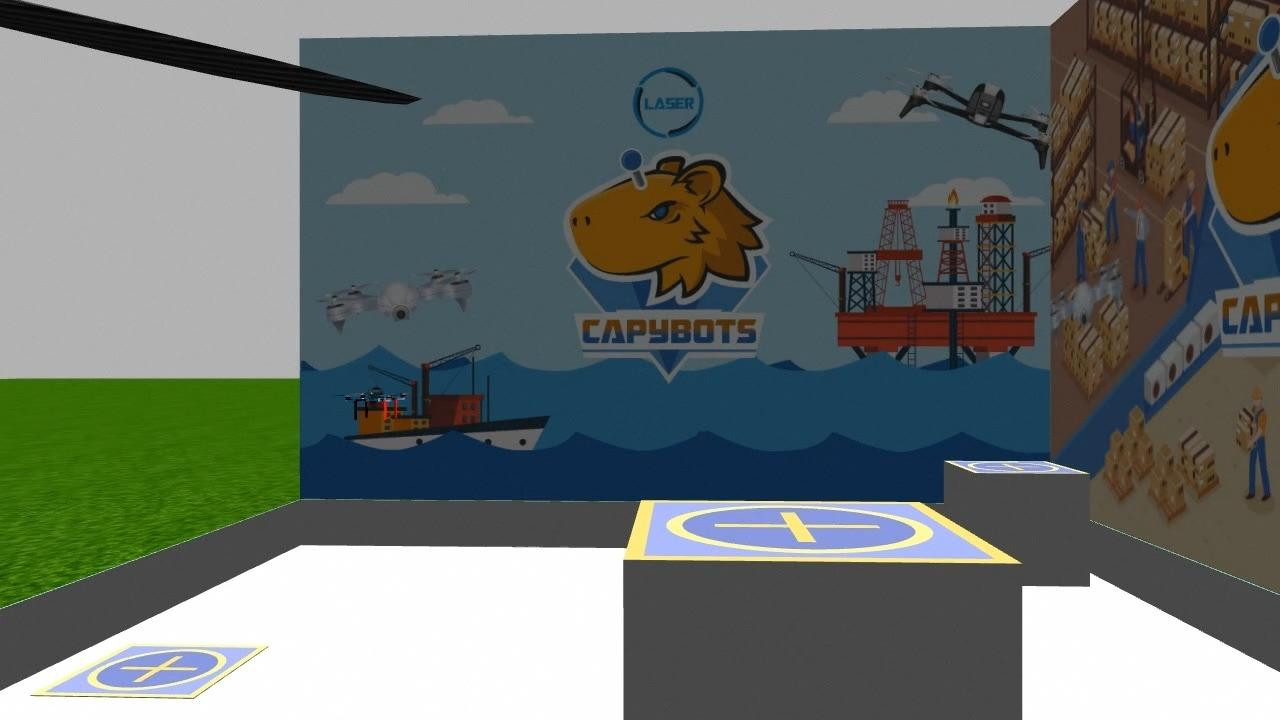UAV: (325, 380, 409, 437)
